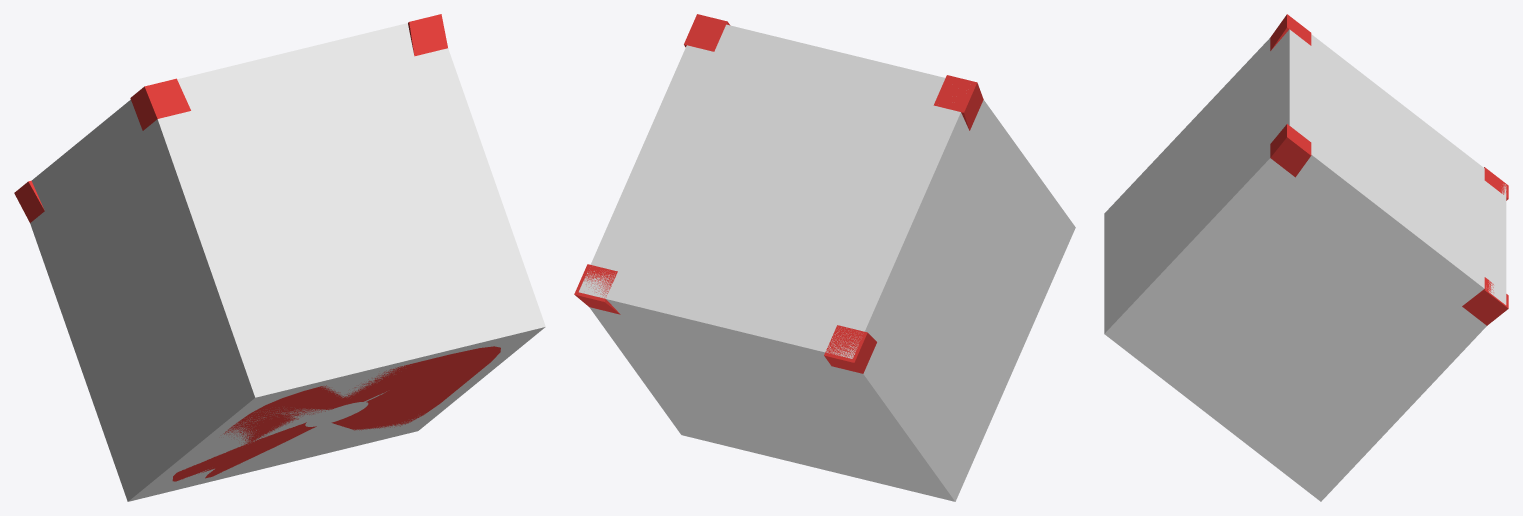
Rendered from prop_ghe_nhua.fbx.
3 renders of one model, left to right at view 1: azimuth 30°, elevation 25°; view 2: azimuth 150°, elevation 25°; view 3: azimuth 270°, elevation 25°, orthographic. The views are drawn at different scales.
Parts seen in each view (by area): view 1: ghe_nhua_col, ghe_nhua, ghe_nhua_broken_04, ghe_nhua_broken_06, ghe_nhua_broken_01, ghe_nhua_broken_02; view 2: ghe_nhua_col, ghe_nhua, ghe_nhua_broken_01; view 3: ghe_nhua_col, ghe_nhua, ghe_nhua_broken_05.
Part boxes in pixels (bbox=[...]): ghe_nhua_col: bbox=[30, 23, 545, 501]; ghe_nhua: bbox=[14, 14, 500, 481]; ghe_nhua_broken_04: bbox=[209, 358, 435, 477]; ghe_nhua_broken_06: bbox=[369, 347, 499, 422]; ghe_nhua_broken_01: bbox=[15, 79, 190, 222]; ghe_nhua_broken_02: bbox=[173, 388, 313, 478]; ghe_nhua_col: bbox=[579, 24, 1075, 501]; ghe_nhua: bbox=[574, 14, 983, 373]; ghe_nhua_broken_01: bbox=[824, 83, 983, 373]; ghe_nhua_col: bbox=[1104, 29, 1506, 501]; ghe_nhua: bbox=[1270, 14, 1508, 325]; ghe_nhua_broken_05: bbox=[1270, 124, 1507, 324].
Size of the model in its own units: 0.46 by 0.6377 by 0.6383.
